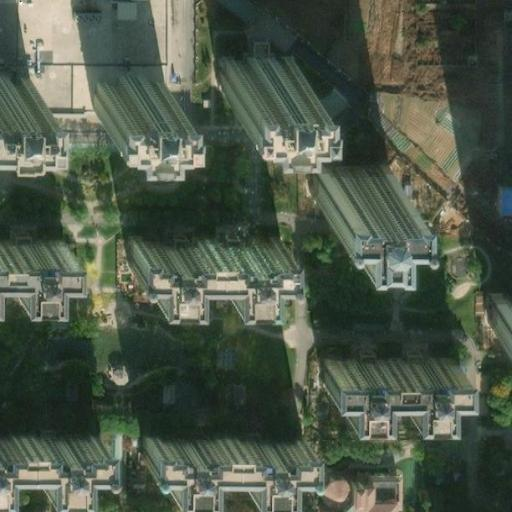building: (0, 0, 151, 84), (140, 428, 301, 482), (128, 237, 281, 293), (319, 354, 457, 405), (301, 161, 387, 215), (208, 54, 291, 106), (309, 463, 387, 512), (77, 60, 158, 106), (482, 300, 512, 351), (493, 184, 512, 207)
